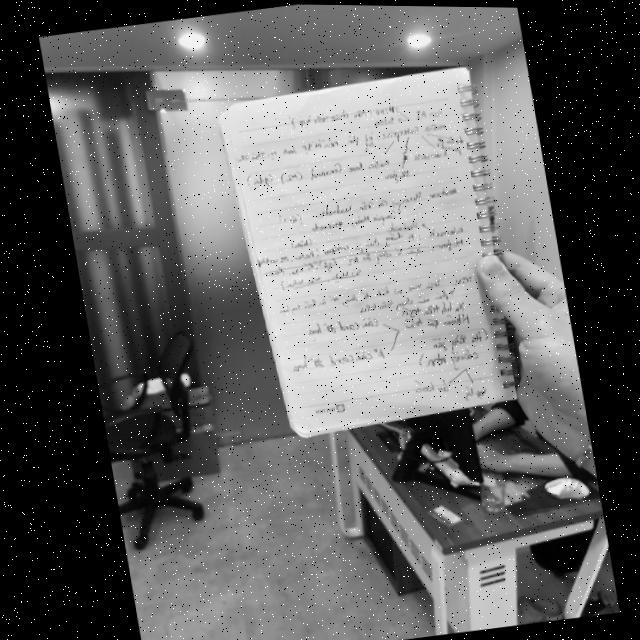document: (219, 67, 517, 437)
